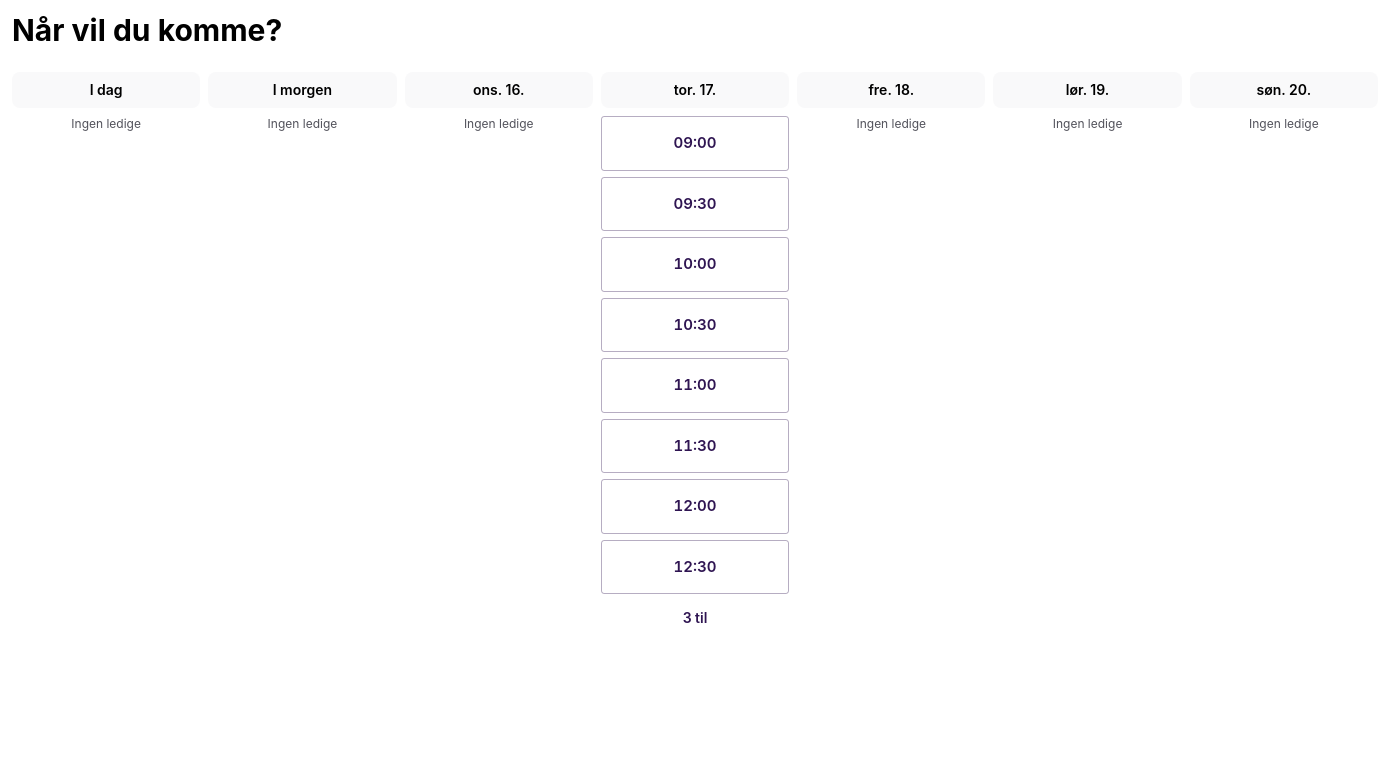
Test case: TimeScreen — layout="adaptive" › folds a long day after eight times, and unfolds it on a tap
Click the button "3 til" at (695, 618), box [601,602,789,634]
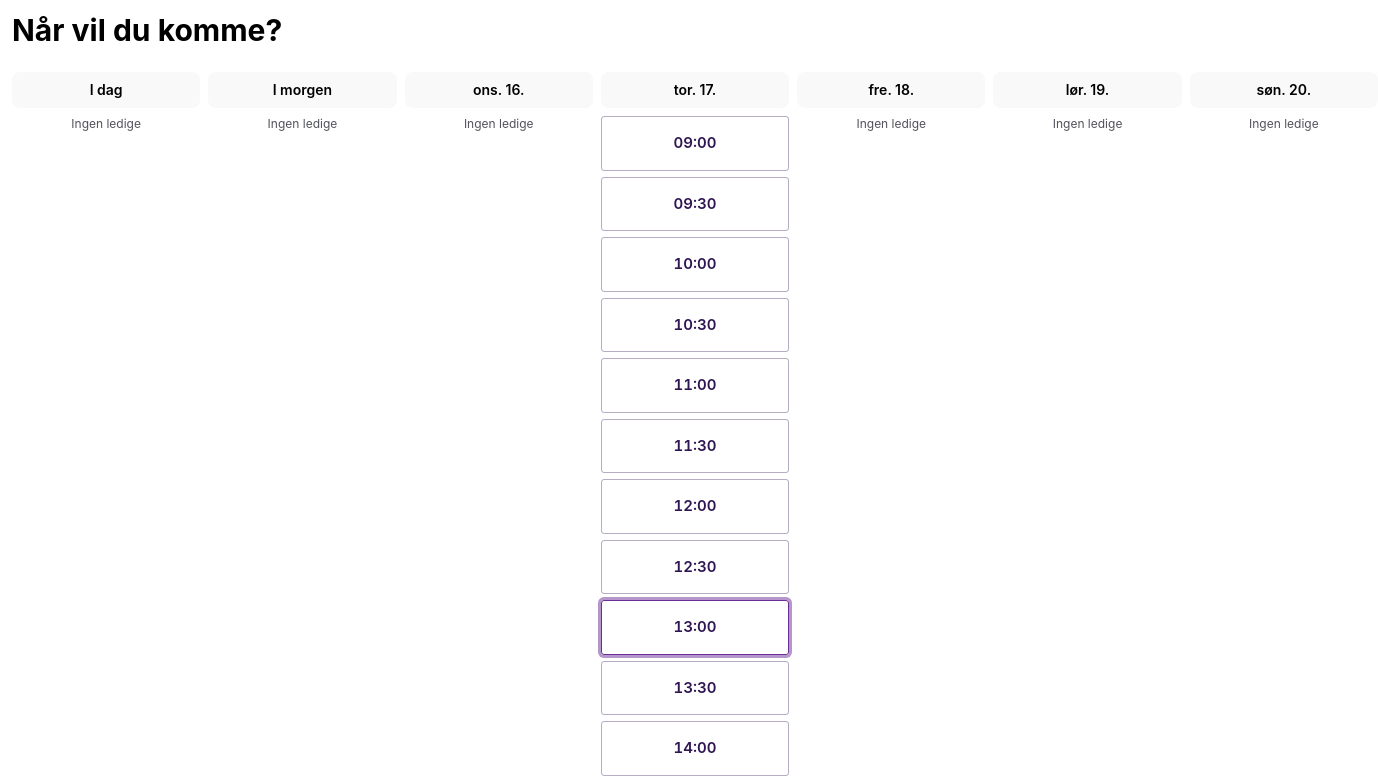
Expected: the button "3 til" is gone
